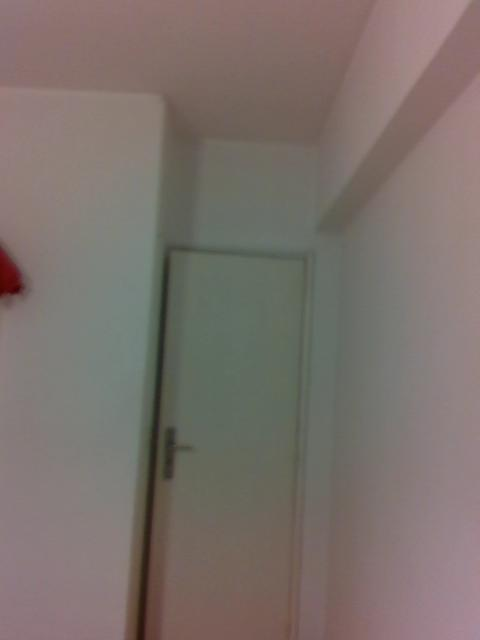door: (146, 251, 305, 640)
